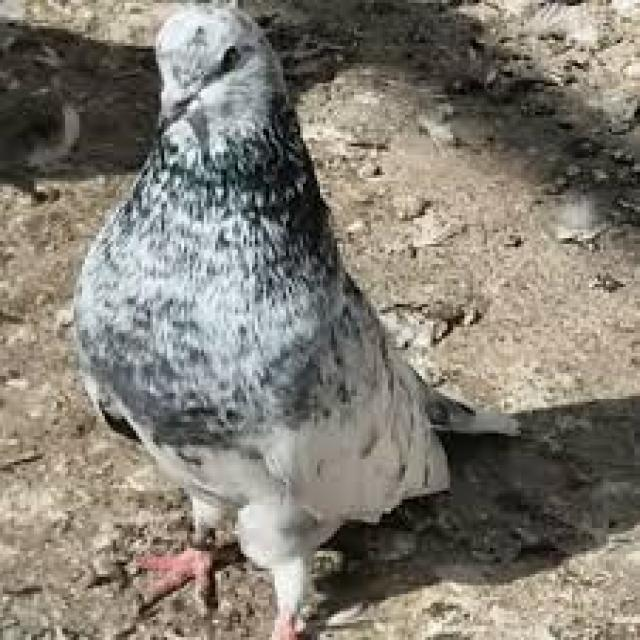bird: (68, 0, 504, 637)
